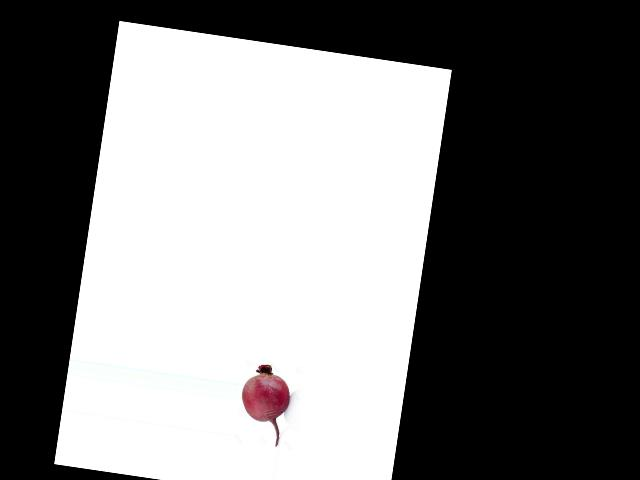beet: (235, 362, 294, 447)
